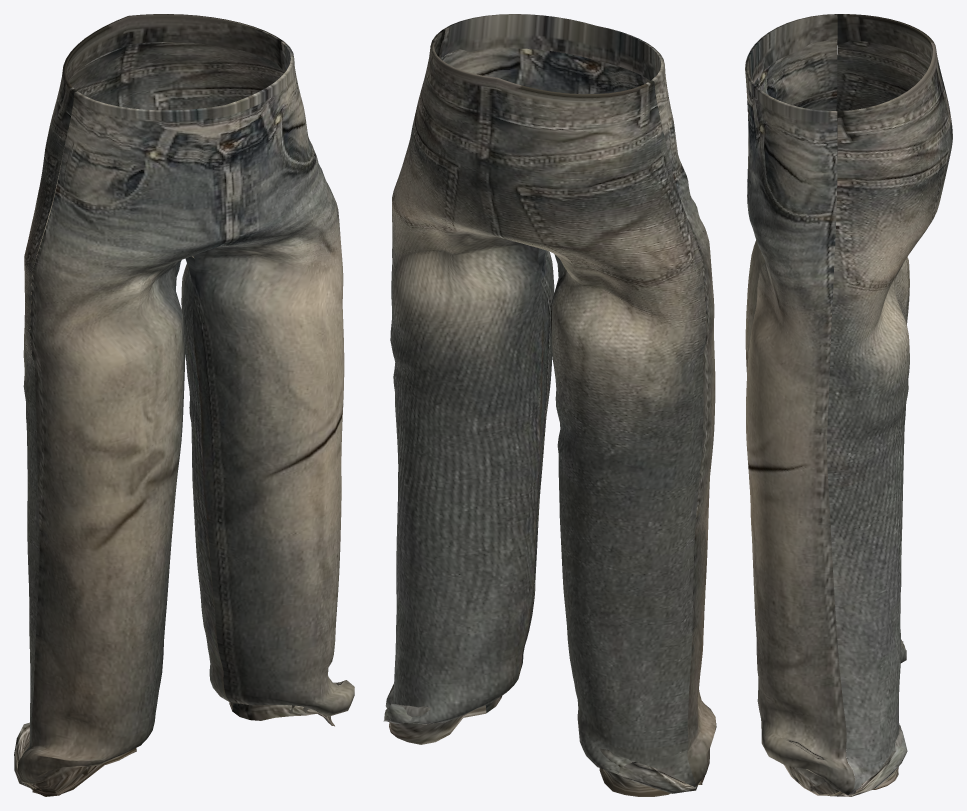
The model's file is hose.glb.
3 views of the same model, side by side, from view 1: azimuth 30°, elevation 25°; view 2: azimuth 150°, elevation 25°; view 3: azimuth 270°, elevation 25° (orthographic). The views are drawn at different scales.
Parts seen in each view (by area): view 1: Hose 1; view 2: Hose 1; view 3: Hose 1.
Boxes of the visible parts, left/top/right/bottom form: Hose 1: left=14, top=14, right=354, bottom=796; Hose 1: left=383, top=14, right=716, bottom=796; Hose 1: left=745, top=14, right=952, bottom=796.
Size of the model in its own units: 0.4727 by 1.02 by 0.2843.
Materials: 1 (1 with a texture image).
